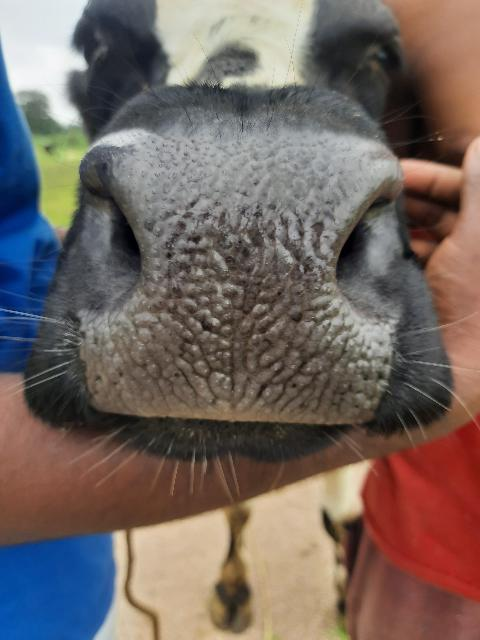Muzzle: (99, 140, 367, 422)
